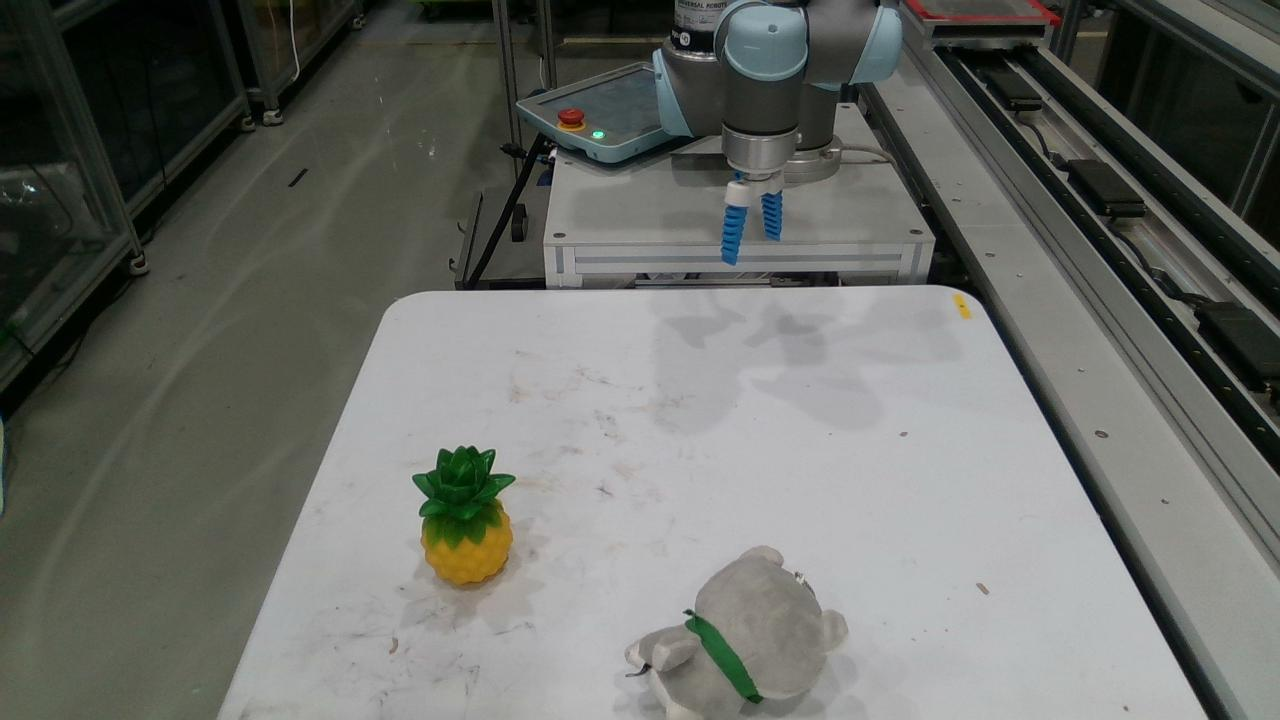UR5: (654, 1, 900, 206)
gripper_left: (722, 206, 744, 263)
gripper_right: (762, 191, 780, 237)
target: (628, 547, 846, 719), (414, 447, 510, 584)
